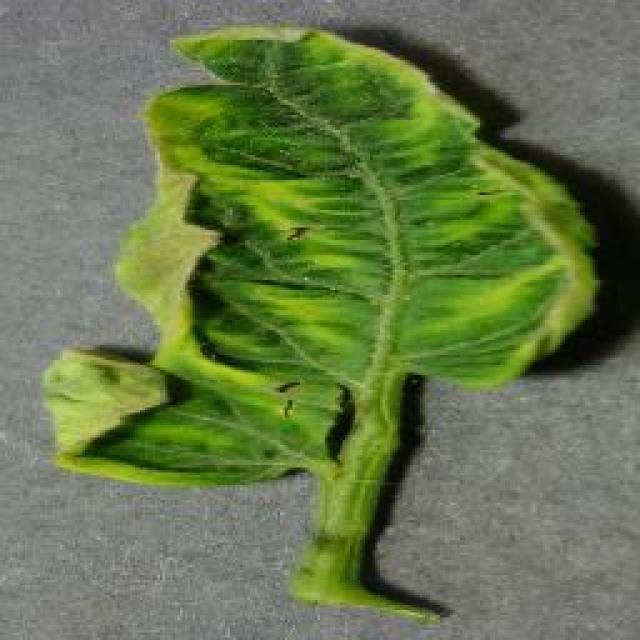Tomato yellow virus leaf: (42, 15, 602, 493)
